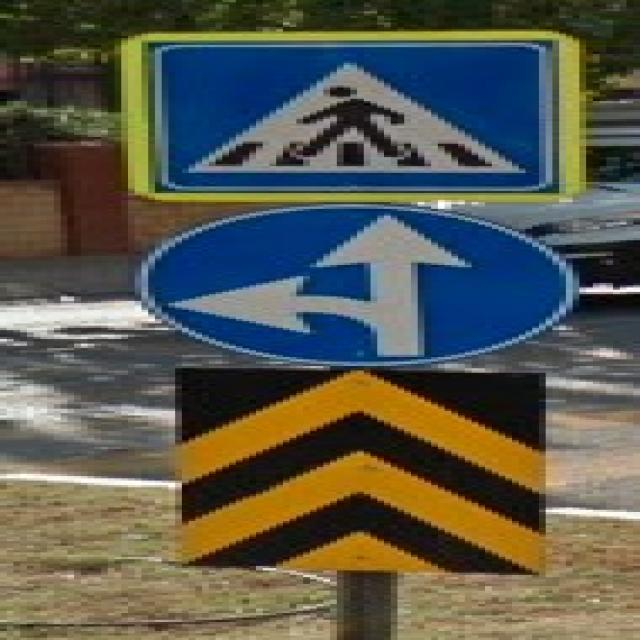Straight or Left: (139, 203, 584, 365)
